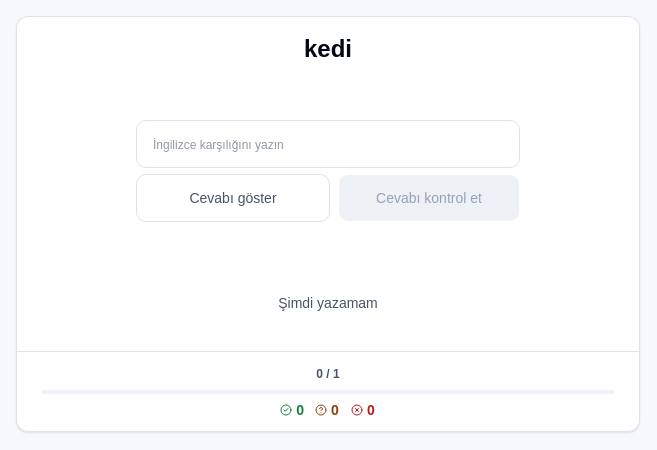
Test: StudySessionPage › defers a skill from the question content without answering
The image size is (657, 450).
Type "dog" into the field named "İngilizce cevap". click: (328, 144)
box: [153,121,503,167]
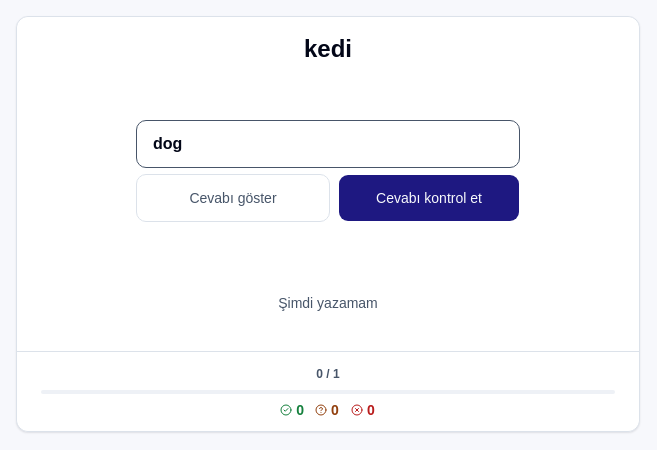
Click the button "Şimdi yazamam". click: (328, 303)
box: [267,287,389,319]
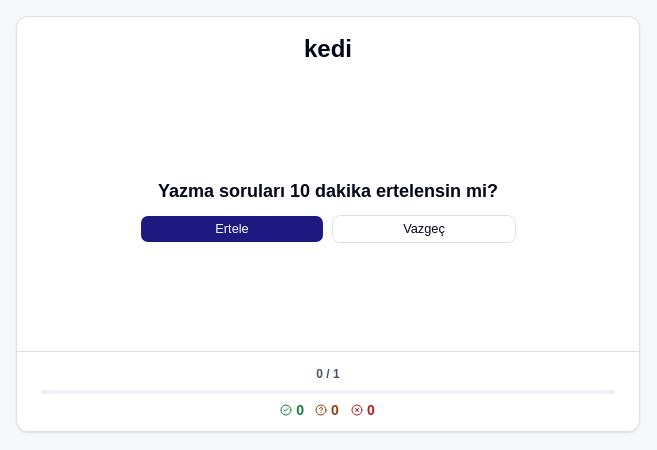
Now the heading "Yazma soruları 10 dakika ertelensin mi?" is shown, box [140,179,516,203]
Click the button "Vazgeç". click: (424, 229)
box: [332,215,516,243]
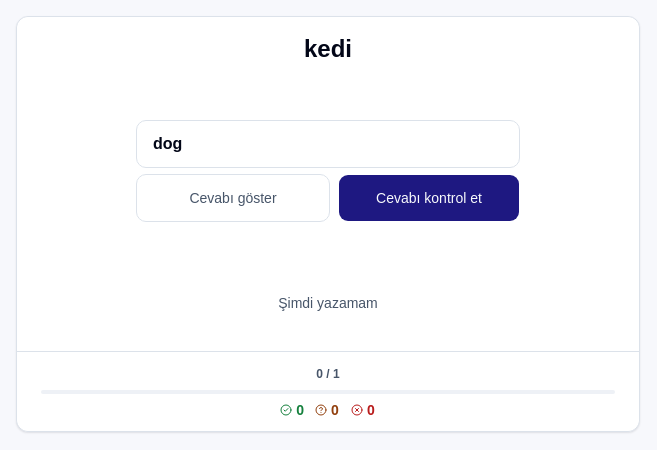
Now the button "Şimdi yazamam" is shown
Now the field named "İngilizce cevap" holds "dog", box [153,121,503,167]
Click the button "Şimdi yazamam". click: (328, 303)
box: [267,287,389,319]
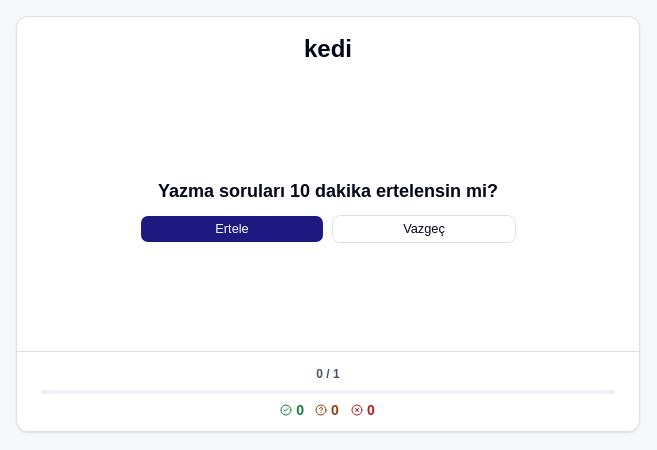
Click the button "Ertele". click: (232, 229)
box: [140,215,324,243]
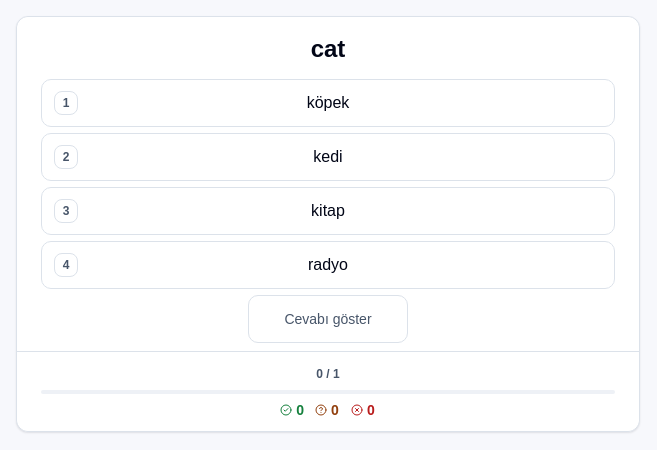
Expected: the button "Şimdi yazamam" is not shown
Now the button "1 köpek" is shown, box [41,79,615,127]
